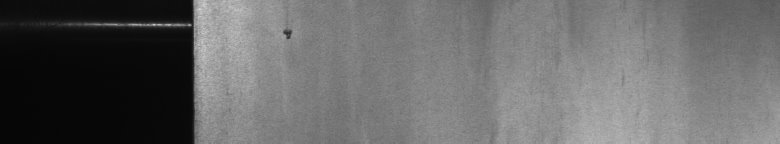fi: (276, 20, 299, 46)
